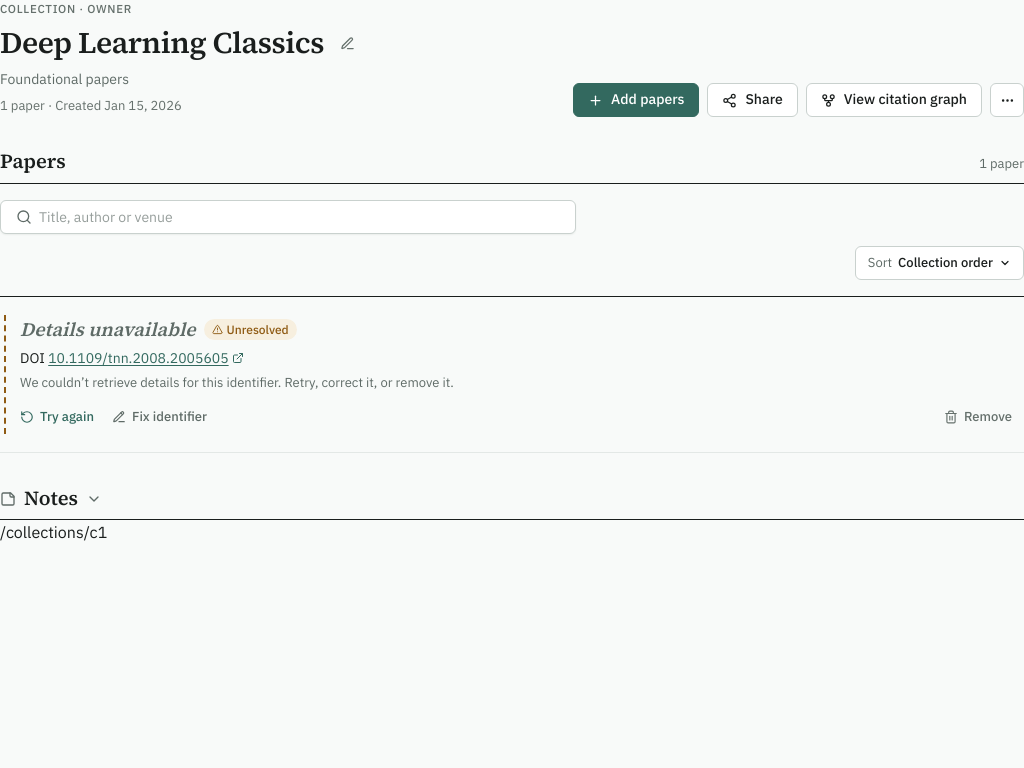
CollectionDetailPage — unresolved papers › offers editors Retry, Fix and Remove instead of the graph
Expected: the button "Fix identifier" is shown, 104,402 -> 215,432
Click the button "Try again": (57,417) 12,402 -> 102,432
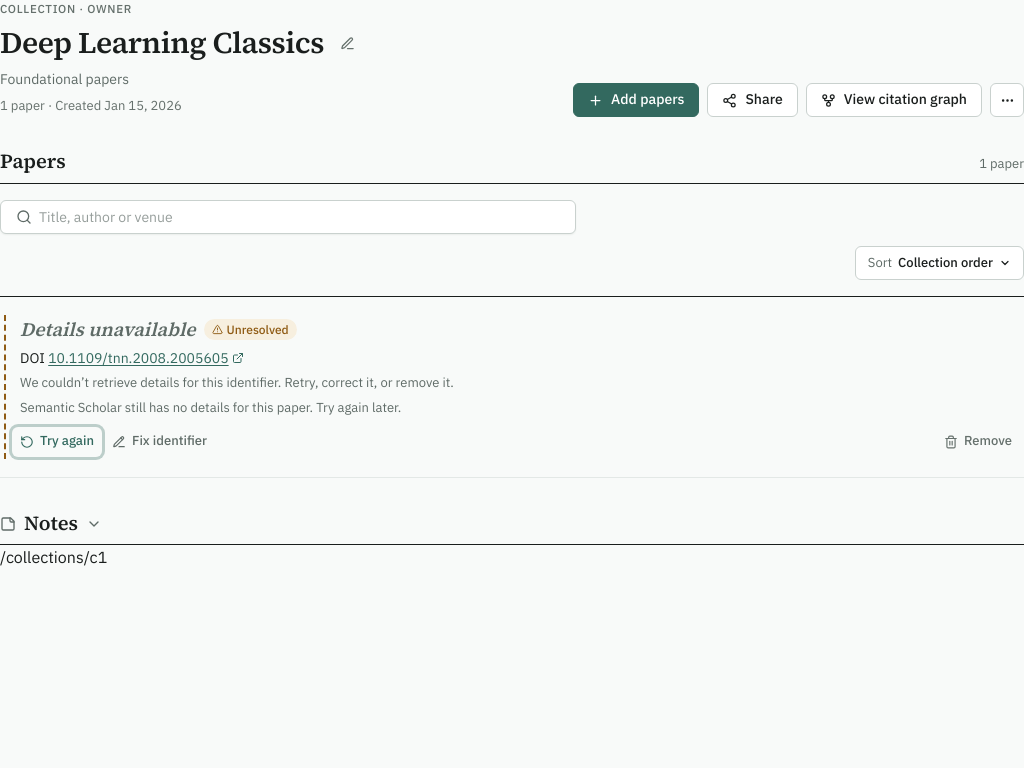
Click the button "Remove": (978,442) 936,426 -> 1020,456
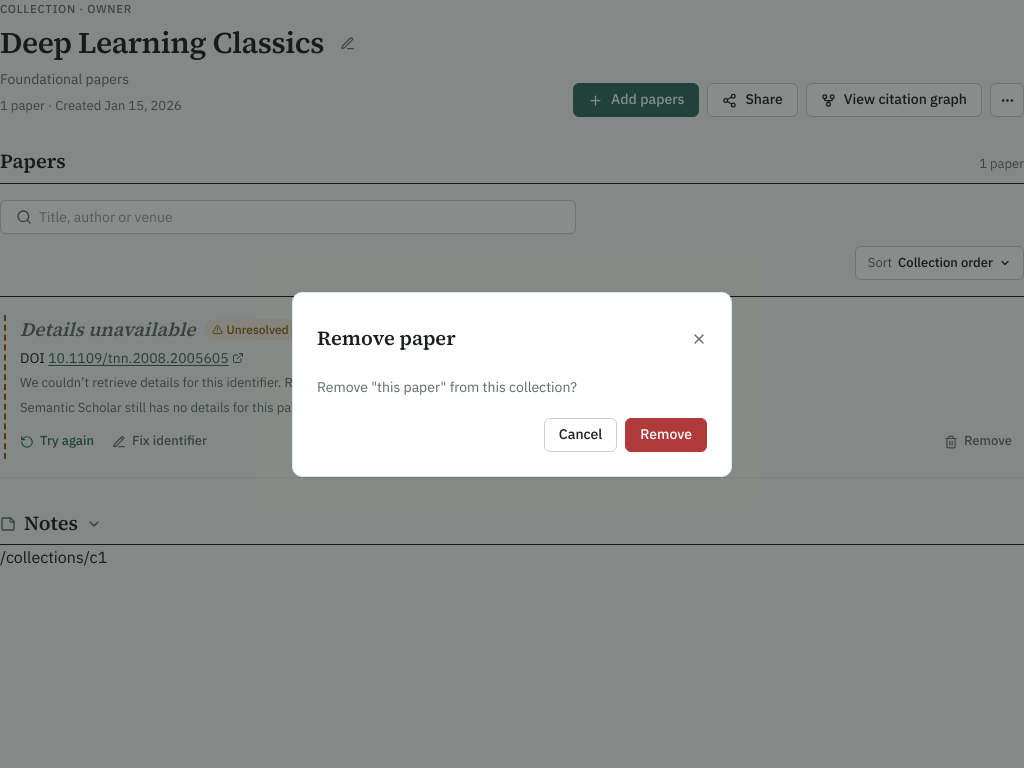
Now the dialog "Remove paper" shows "Remove \"this paper\"", box 317,378 -> 577,396
